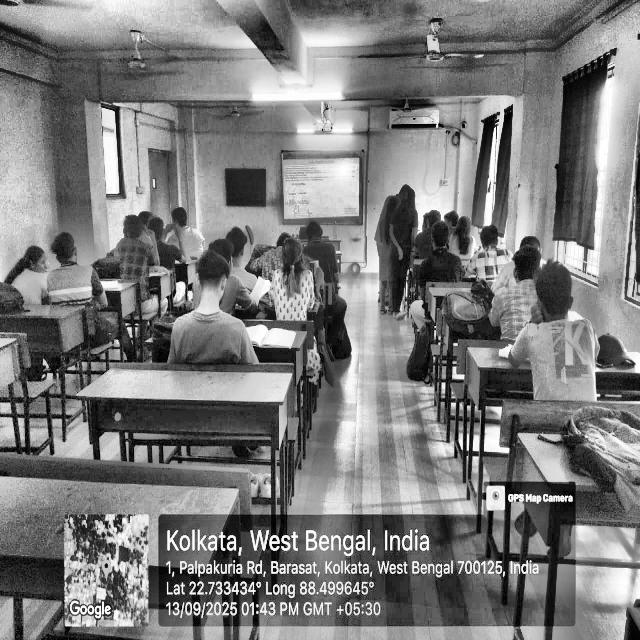Focus: (444, 200, 545, 328), (381, 155, 438, 346)
Not Focus: (536, 258, 640, 434), (250, 189, 334, 320), (109, 168, 224, 262), (21, 222, 119, 332), (183, 255, 251, 410)
